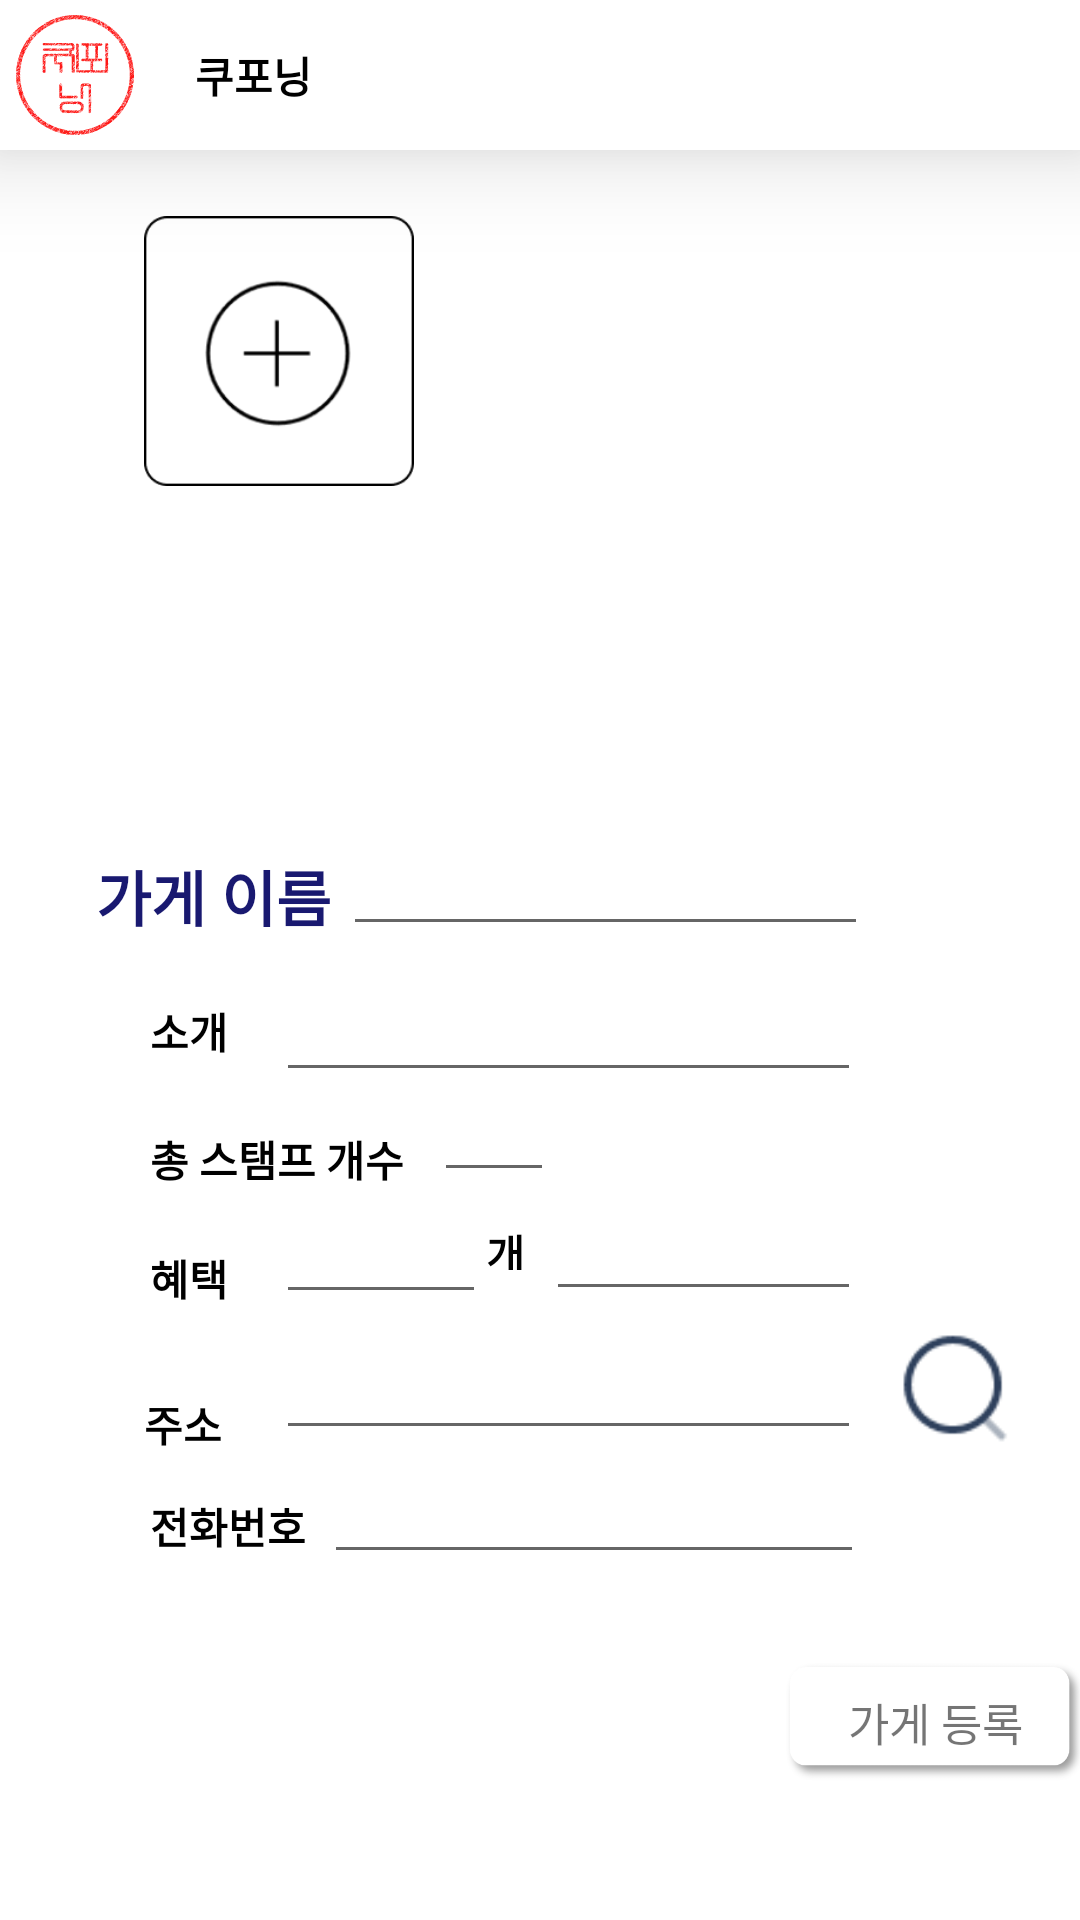

Icon click points for this 1080×1920 phone screenshot, format point (x, y):
addimage: point (279, 351)
searchlocation: point (954, 1388)
